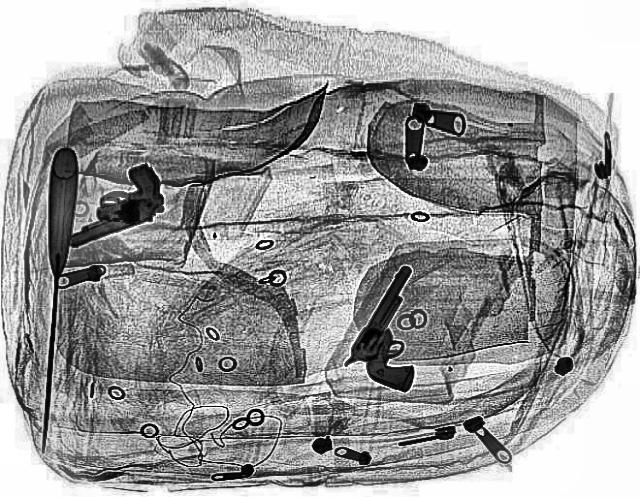Gun: (334, 262, 472, 392), (38, 160, 180, 248)
Knife: (28, 146, 80, 452)
